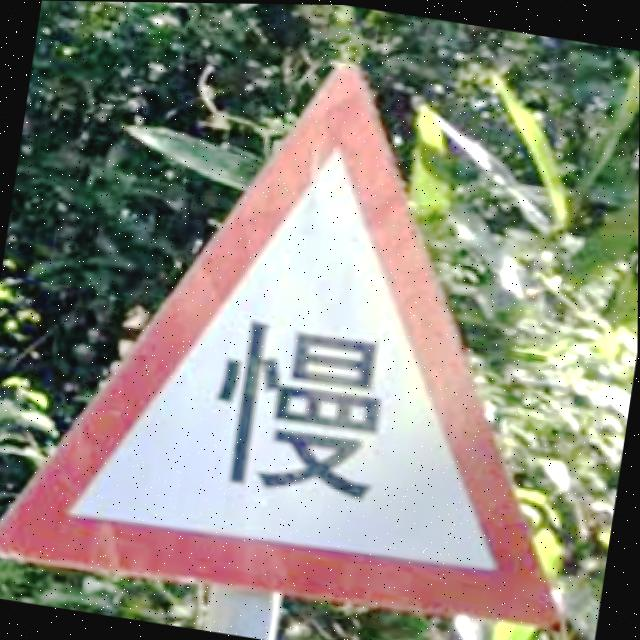slow: (0, 64, 565, 630)
